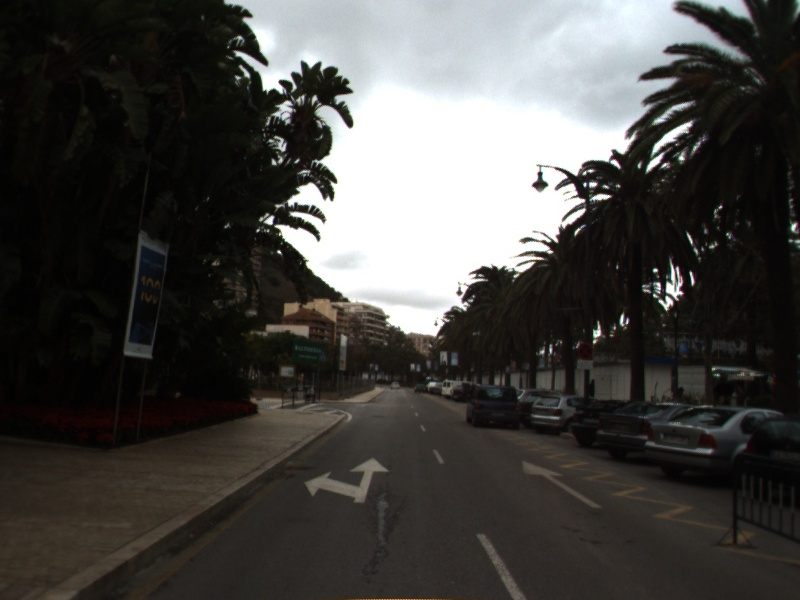STRAIGHT: (521, 458, 604, 510)
STRAIGHT_LEFT: (302, 455, 392, 505)
